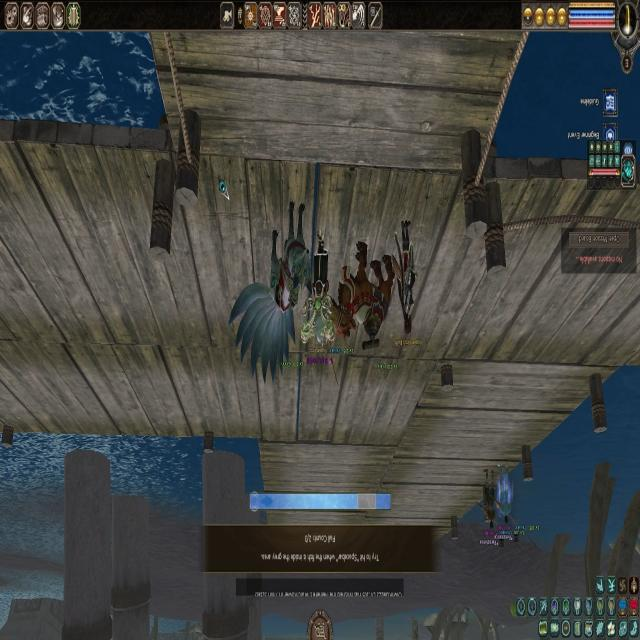box: (358, 488, 376, 514)
fishes: (259, 492, 275, 514)
